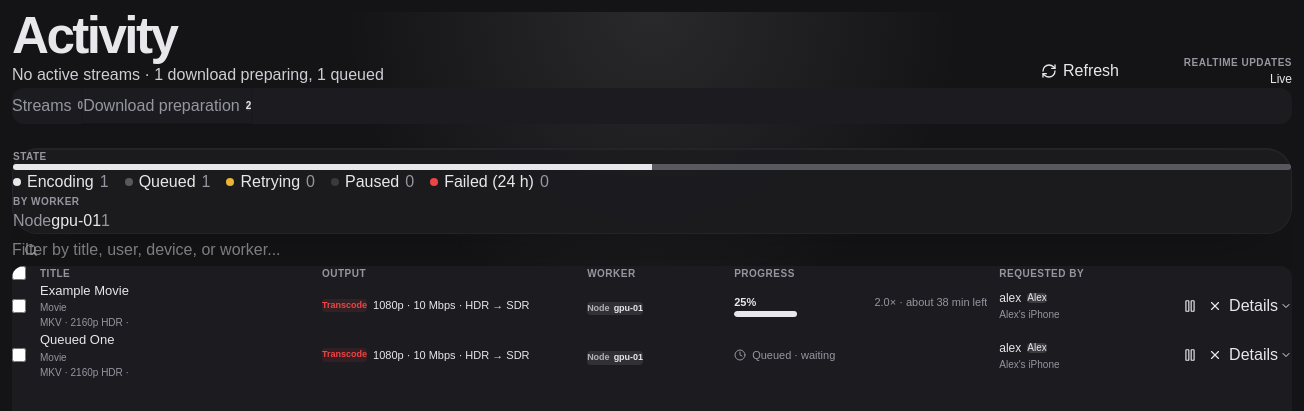
download preparation tab › filters by state and search text
Click the button "Queued 1". click: click(168, 182)
box: [125, 170, 210, 194]
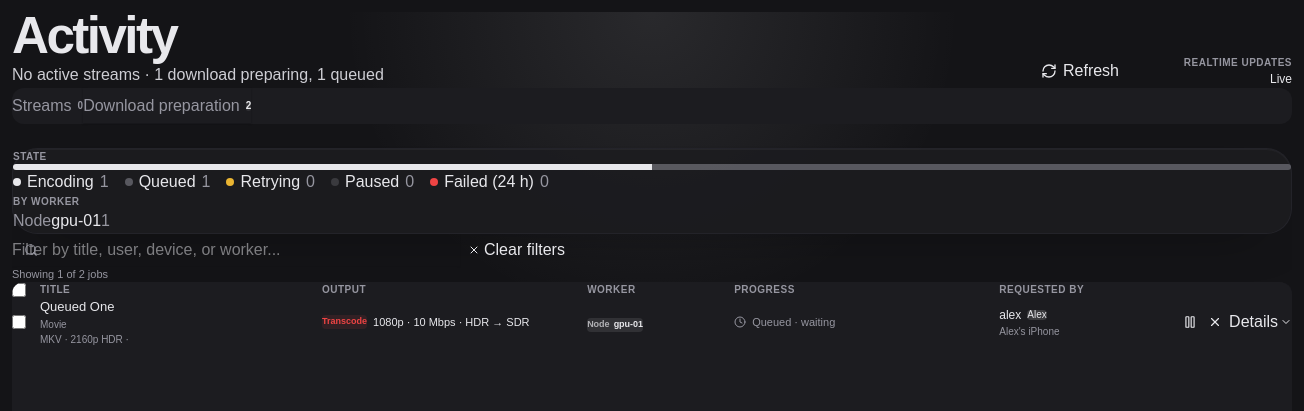
expect the text "Showing 1 of 2 jobs" is shown: met, box [12, 268, 108, 280]
expect the progress indicator is gone: met
Click the button "Clear filters". click: click(516, 250)
box: [468, 238, 565, 262]
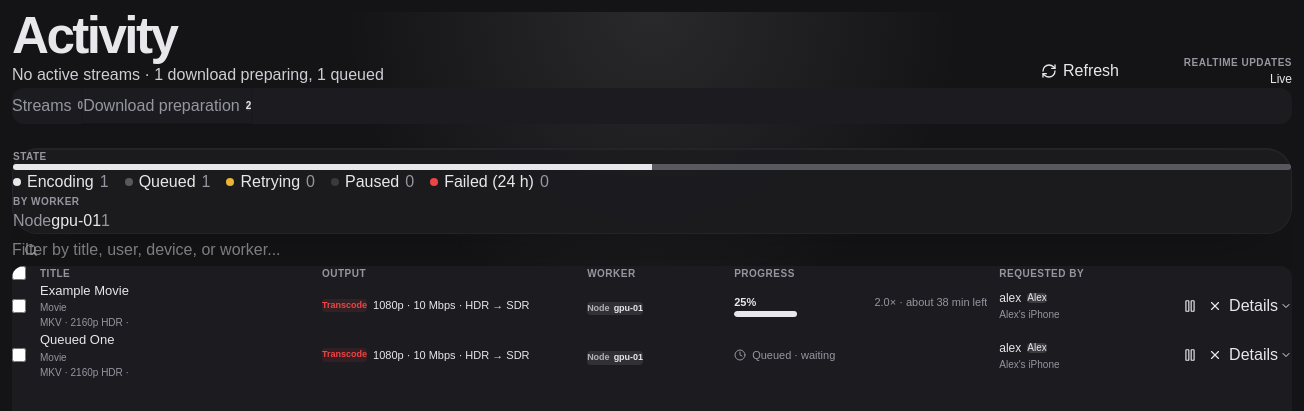
Type "alex's iphone" into the field named "Filter download preparation". click: (236, 250)
box: [12, 234, 460, 266]
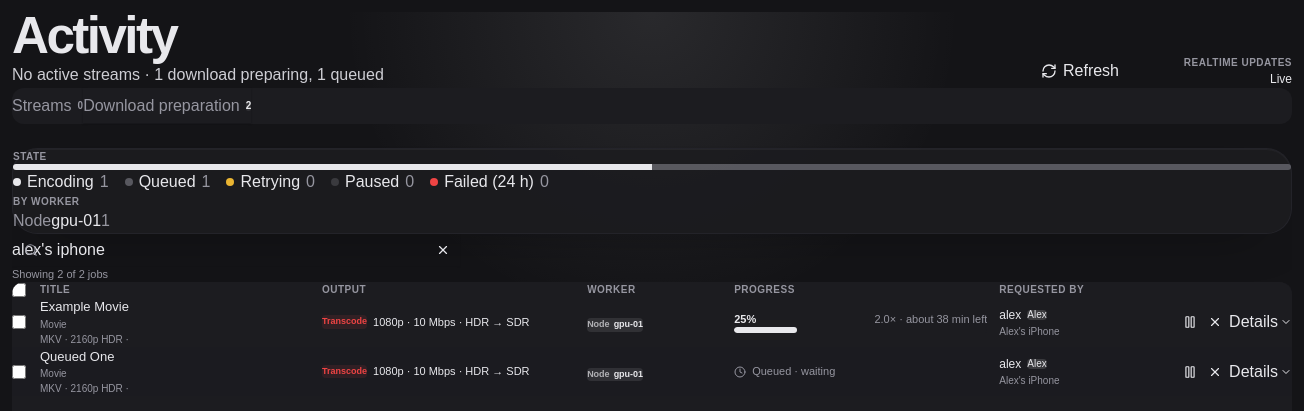
expect the text "Showing 2 of 2 jobs" is shown: met, box [12, 268, 108, 280]
Replace the text in the field named "Filter download preparation" with "nothing matches". click: (236, 250)
box: [12, 234, 460, 266]
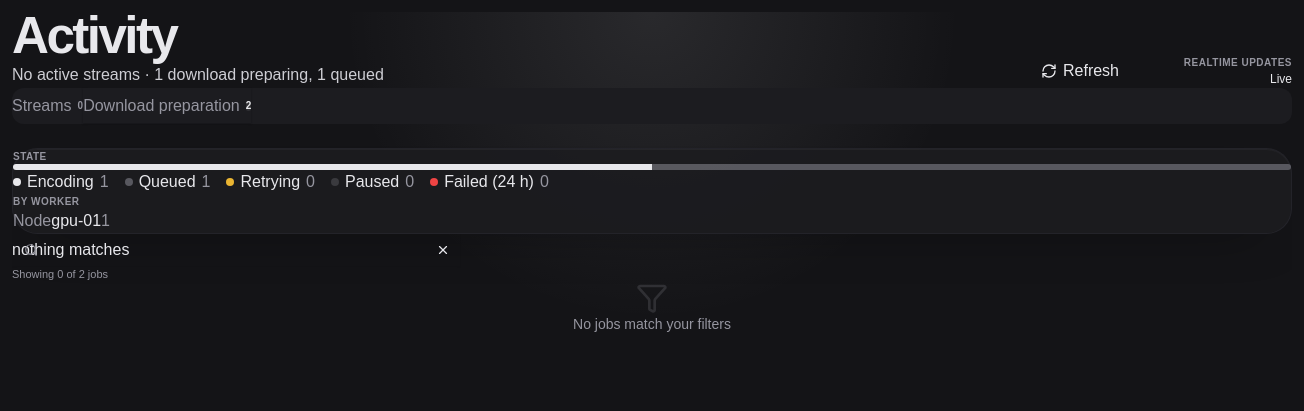
expect the text "No jobs match your filters" is shown: met, box [573, 314, 731, 334]
